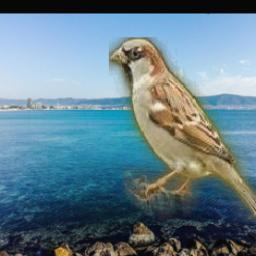Sparrow: (109, 37, 256, 222)
